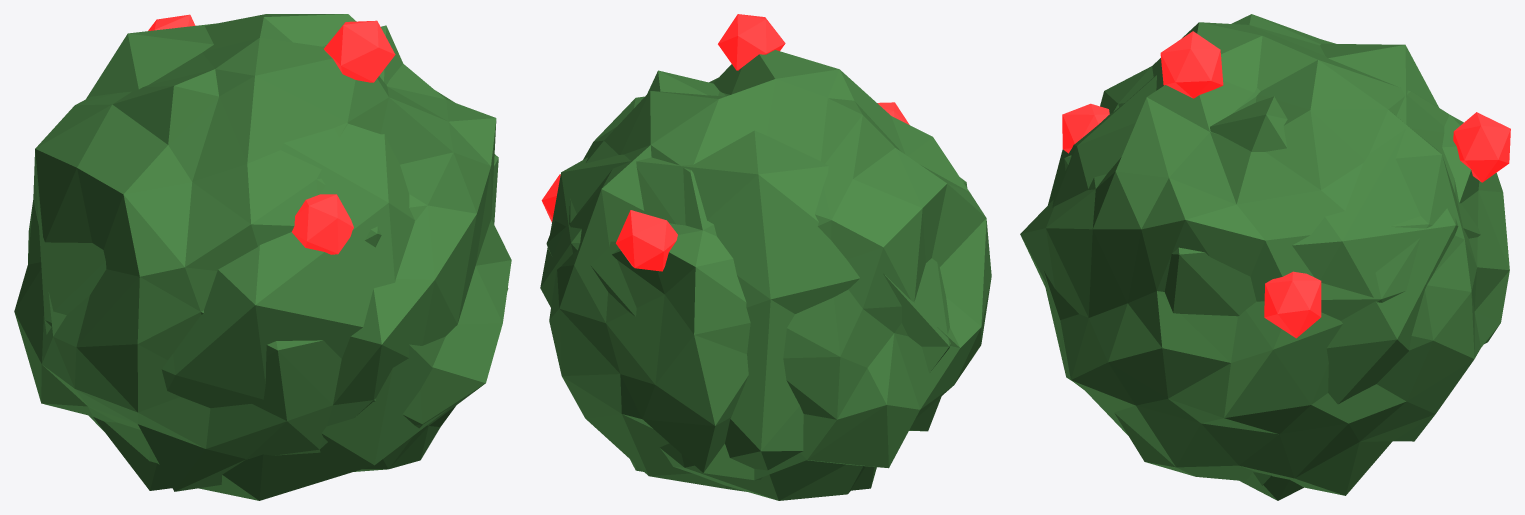
Rendered from Bush.fbx.
The picture shows the model from 3 angles, left to right: view 1: azimuth 30°, elevation 25°; view 2: azimuth 150°, elevation 25°; view 3: azimuth 270°, elevation 25°; orthographic projection. The views are drawn at different scales.
Visible parts, largest first — view 1: GeneratedLeaves, Overrided_LOD_TEST, Merged, Overrided_LOD_TEST_1; view 2: GeneratedLeaves, Overrided_LOD_TEST, Merged, Overrided_LOD_TEST_1; view 3: GeneratedLeaves, Overrided_LOD_TEST, Merged, Overrided_LOD_TEST_1.
Part boxes in pixels (bbox=[...]): GeneratedLeaves: bbox=[14, 14, 511, 491]; Overrided_LOD_TEST: bbox=[36, 23, 498, 500]; Merged: bbox=[148, 14, 395, 254]; Overrided_LOD_TEST_1: bbox=[323, 25, 402, 247]; GeneratedLeaves: bbox=[546, 50, 991, 491]; Overrided_LOD_TEST: bbox=[540, 93, 967, 500]; Merged: bbox=[541, 14, 909, 271]; Overrided_LOD_TEST_1: bbox=[647, 70, 719, 95]; GeneratedLeaves: bbox=[1020, 14, 1509, 495]; Overrided_LOD_TEST: bbox=[1044, 43, 1480, 500]; Merged: bbox=[1062, 31, 1510, 338]; Overrided_LOD_TEST_1: bbox=[1064, 96, 1287, 485].
Size of the model in its own units: 205 by 206 by 207.
